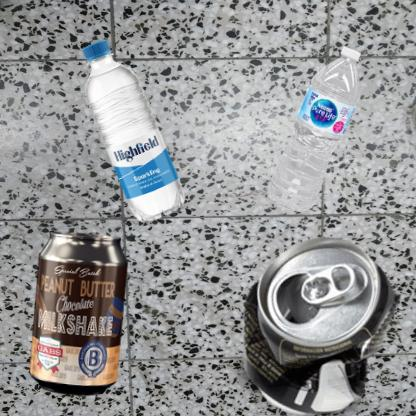botella: (10, 10, 266, 275), (213, 10, 416, 278)
lata: (213, 213, 416, 416), (10, 213, 151, 416)
